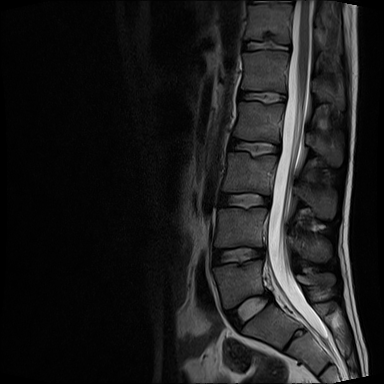Lumbar Disc Bulge (LDB): (219, 287, 277, 336)
Normal IVD: (208, 240, 272, 271), (212, 186, 274, 212), (226, 133, 284, 158), (233, 88, 290, 107), (239, 36, 293, 56)
